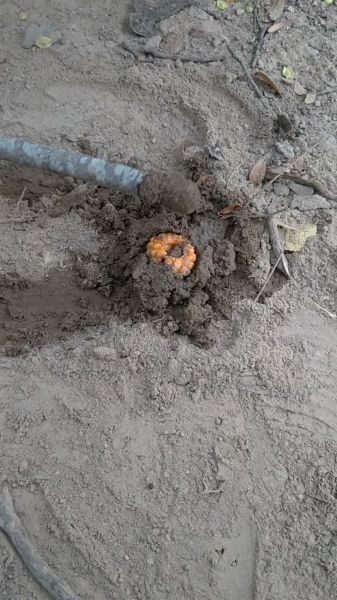eggs: (138, 224, 206, 283)
